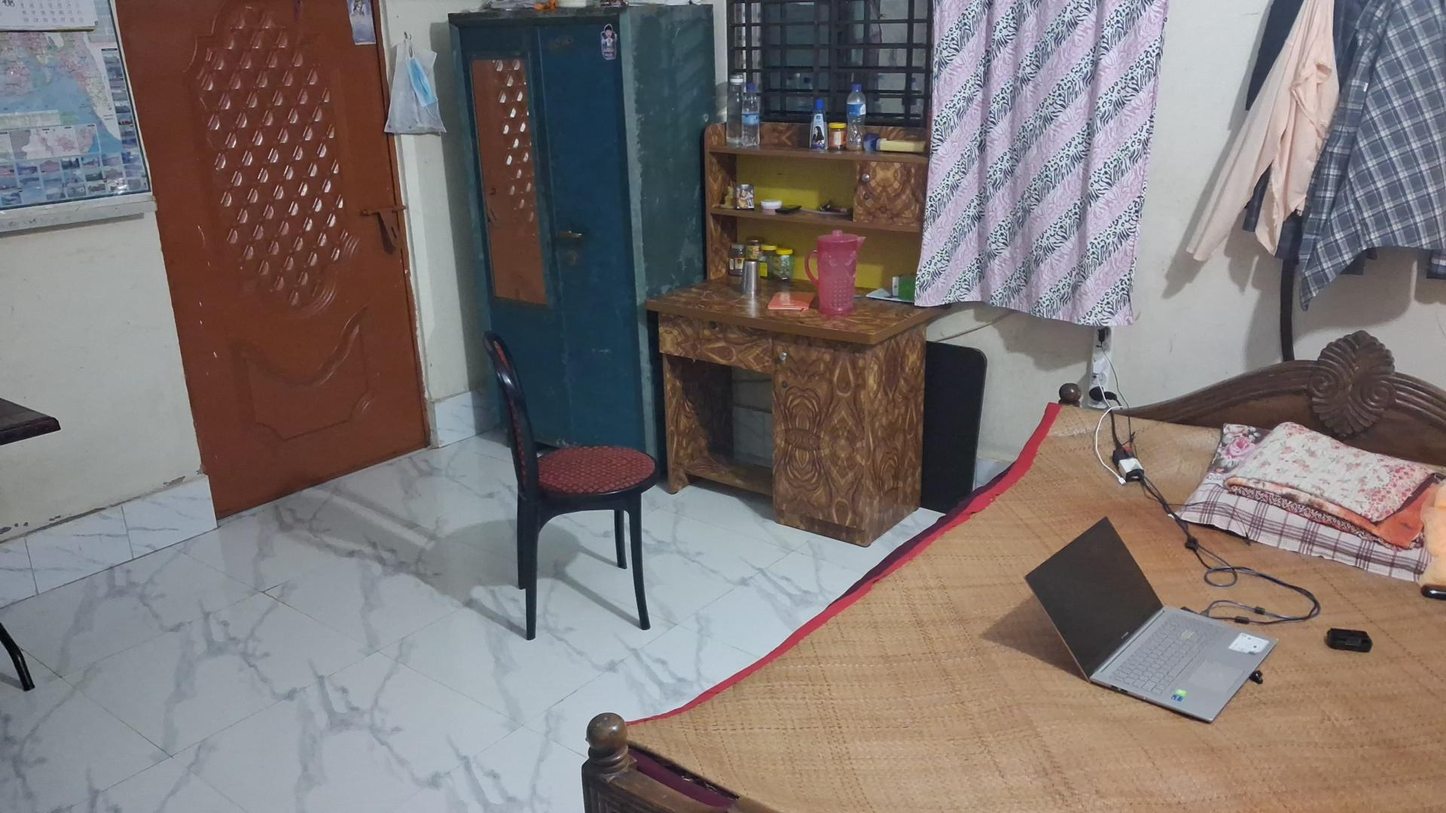Bag: (382, 38, 456, 149)
Bottle: (724, 73, 745, 150), (845, 81, 866, 151), (870, 133, 929, 155), (743, 94, 761, 147), (810, 101, 827, 147)
Box: (890, 270, 916, 298)
Door: (97, 2, 458, 523)
Glass: (742, 262, 759, 296)
Jar: (773, 246, 794, 281), (758, 243, 776, 280), (728, 242, 746, 276), (827, 120, 846, 151), (745, 236, 764, 261)
Jug: (804, 231, 868, 319)
Knife: (472, 320, 674, 654)
Laptop: (1002, 506, 1287, 721)
Notebook: (768, 287, 817, 311)
Pillow: (1166, 406, 1446, 595)
